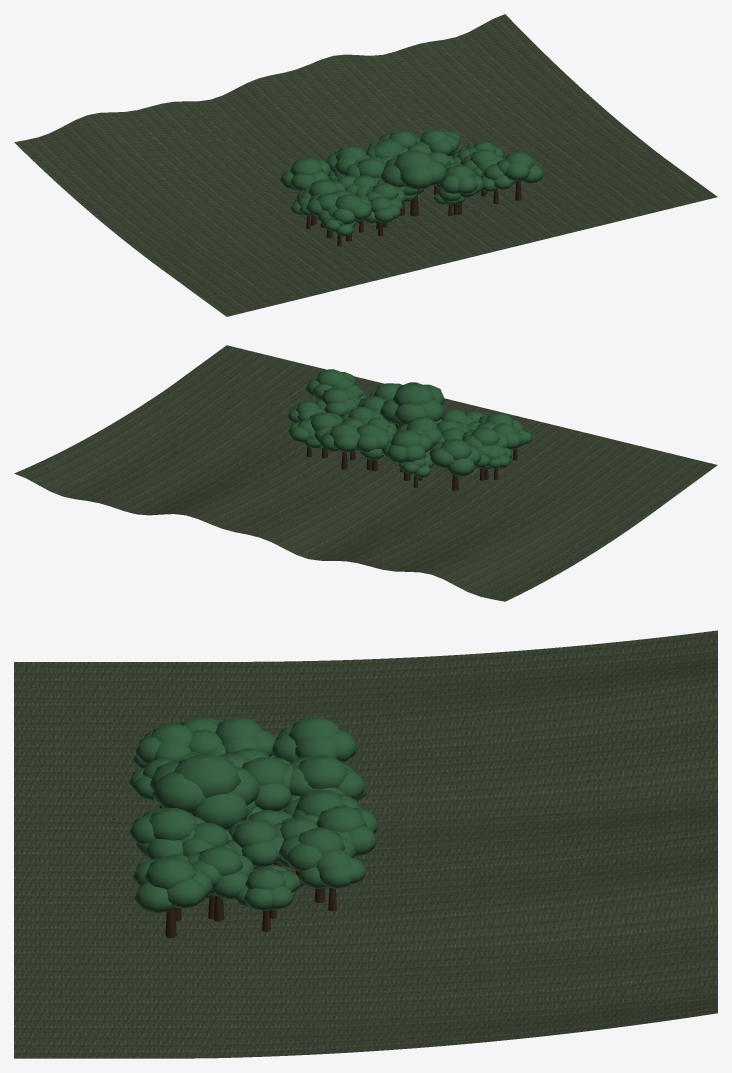
File: bois.glb
3 renders of one model, top to bottom at view 1: azimuth 30°, elevation 25°; view 2: azimuth 150°, elevation 25°; view 3: azimuth 270°, elevation 25°, orthographic. The views are drawn at different scales.
Parts seen in each view (by area): view 1: sol, decor; view 2: sol, decor; view 3: sol, decor.
Boxes of the visible parts, x1,y1,x2,y2 form: sol: (14, 14, 717, 316); decor: (280, 129, 543, 254); sol: (14, 345, 717, 601); decor: (288, 369, 532, 490); sol: (14, 630, 717, 1058); decor: (99, 717, 378, 939).
Bounding box in the file's own units: 120 × 14.57 × 90.
Materials: 5 (1 with a texture image).
